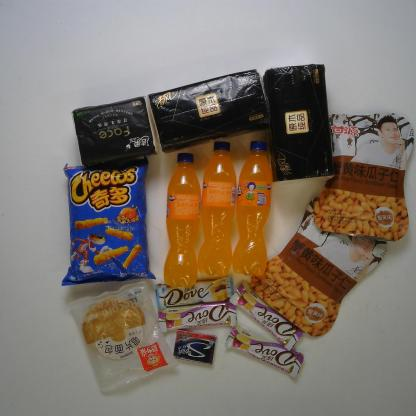Chocolate: (228, 278, 305, 353), (223, 323, 304, 379), (155, 274, 235, 310), (156, 302, 238, 334)
Dessert: (66, 280, 180, 397)
Dried Fruit: (253, 199, 388, 337), (312, 111, 415, 242)
Drink: (233, 140, 274, 278), (197, 141, 238, 279), (162, 152, 202, 289)
Gum: (173, 326, 216, 365)
Puffed Food: (57, 154, 159, 289)
Tissue: (147, 67, 271, 155), (261, 62, 335, 183), (66, 96, 158, 169)
